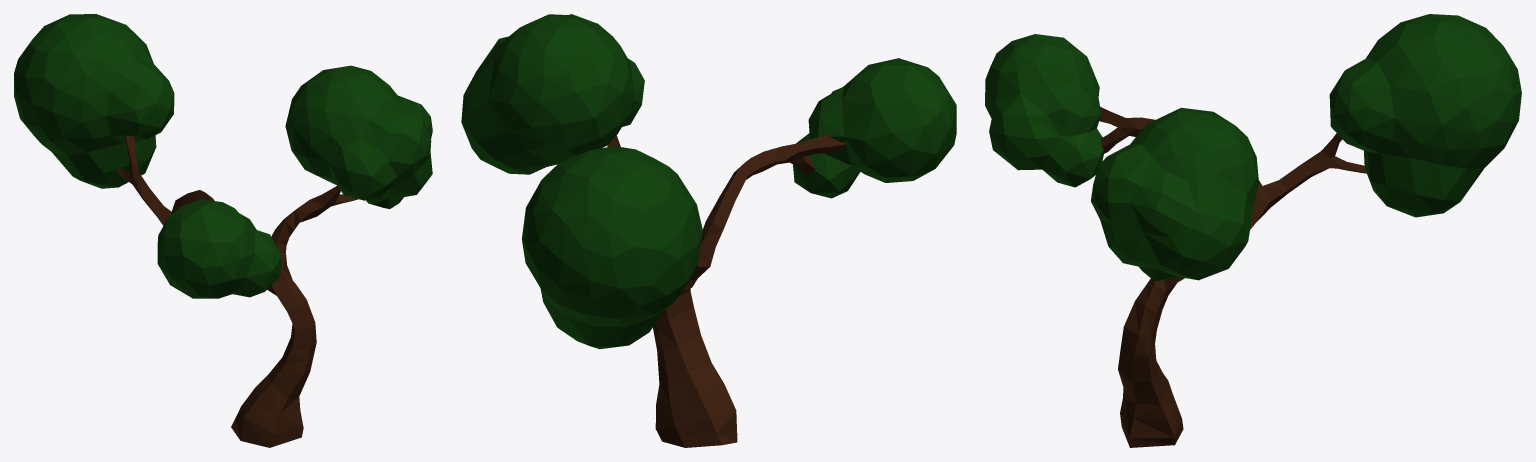
The model's file is Tree3_Destr.FBX.
3 renders of one model, left to right at view 1: azimuth 30°, elevation 25°; view 2: azimuth 150°, elevation 25°; view 3: azimuth 270°, elevation 25°, orthographic. The views are drawn at different scales.
Parts seen in each view (by area): view 1: LowPoly_Tree_03_lowpoly_tree_01_Plane_013_Part_4, LowPoly_Tree_03_lowpoly_tree_01_Plane_013_Part_13, LowPoly_Tree_03_lowpoly_tree_01_Plane_013_Part_18, LowPoly_Tree_03_lowpoly_tree_01_Plane_013_Part_1, LowPoly_Tree_03_lowpoly_tree_01_Plane_013_Part_2, LowPoly_Tree_03_lowpoly_tree_01_Plane_013_Part_17, LowPoly_Tree_03_lowpoly_tree_01_Plane_013_Part_6, LowPoly_Tree_03_lowpoly_tree_01_Plane_013_Part_16, LowPoly_Tree_03_lowpoly_tree_01_Plane_013_Part_20_Part_2, LowPoly_Tree_03_lowpoly_tree_01_Plane_013_Part_20_Part_5, LowPoly_Tree_03_lowpoly_tree_01_Plane_013_Part_20_Part_1, LowPoly_Tree_03_lowpoly_tree_01_Plane_013_Part_10 (+5 smaller); view 2: LowPoly_Tree_03_lowpoly_tree_01_Plane_013_Part_12, LowPoly_Tree_03_lowpoly_tree_01_Plane_013_Part_5, LowPoly_Tree_03_lowpoly_tree_01_Plane_013_Part_8, LowPoly_Tree_03_lowpoly_tree_01_Plane_013_Part_4, LowPoly_Tree_03_lowpoly_tree_01_Plane_013_Part_9, LowPoly_Tree_03_lowpoly_tree_01_Plane_013_Part_14, LowPoly_Tree_03_lowpoly_tree_01_Plane_013_Part_6, LowPoly_Tree_03_lowpoly_tree_01_Plane_013_Part_16, LowPoly_Tree_03_lowpoly_tree_01_Plane_013_Part_7, LowPoly_Tree_03_lowpoly_tree_01_Plane_013_Part_20_Part_2, LowPoly_Tree_03_lowpoly_tree_01_Plane_013_Part_19, LowPoly_Tree_03_lowpoly_tree_01_Plane_013_Part_13 (+11 smaller); view 3: LowPoly_Tree_03_lowpoly_tree_01_Plane_013_Part_1, LowPoly_Tree_03_lowpoly_tree_01_Plane_013_Part_5, LowPoly_Tree_03_lowpoly_tree_01_Plane_013_Part_10, LowPoly_Tree_03_lowpoly_tree_01_Plane_013_Part_9, LowPoly_Tree_03_lowpoly_tree_01_Plane_013_Part_15, LowPoly_Tree_03_lowpoly_tree_01_Plane_013_Part_17, LowPoly_Tree_03_lowpoly_tree_01_Plane_013_Part_13, LowPoly_Tree_03_lowpoly_tree_01_Plane_013_Part_18, LowPoly_Tree_03_lowpoly_tree_01_Plane_013_Part_12, LowPoly_Tree_03_lowpoly_tree_01_Plane_013_Part_20_Part_4, LowPoly_Tree_03_lowpoly_tree_01_Plane_013_Part_20_Part_1, LowPoly_Tree_03_lowpoly_tree_01_Plane_013_Part_2 (+4 smaller).
Boxes of the visible parts, <box> form: LowPoly_Tree_03_lowpoly_tree_01_Plane_013_Part_4: <box>289,65,384,200</box>; LowPoly_Tree_03_lowpoly_tree_01_Plane_013_Part_13: <box>35,17,154,111</box>; LowPoly_Tree_03_lowpoly_tree_01_Plane_013_Part_18: <box>55,65,180,209</box>; LowPoly_Tree_03_lowpoly_tree_01_Plane_013_Part_1: <box>366,72,432,208</box>; LowPoly_Tree_03_lowpoly_tree_01_Plane_013_Part_2: <box>194,206,261,298</box>; LowPoly_Tree_03_lowpoly_tree_01_Plane_013_Part_17: <box>70,135,176,225</box>; LowPoly_Tree_03_lowpoly_tree_01_Plane_013_Part_6: <box>160,199,231,286</box>; LowPoly_Tree_03_lowpoly_tree_01_Plane_013_Part_16: <box>14,67,83,170</box>; LowPoly_Tree_03_lowpoly_tree_01_Plane_013_Part_20_Part_2: <box>250,344,313,414</box>; LowPoly_Tree_03_lowpoly_tree_01_Plane_013_Part_20_Part_5: <box>235,395,294,447</box>; LowPoly_Tree_03_lowpoly_tree_01_Plane_013_Part_20_Part_1: <box>267,286,316,360</box>; LowPoly_Tree_03_lowpoly_tree_01_Plane_013_Part_10: <box>232,213,281,297</box>; LowPoly_Tree_03_lowpoly_tree_01_Plane_013_Part_12: <box>473,31,615,131</box>; LowPoly_Tree_03_lowpoly_tree_01_Plane_013_Part_5: <box>522,151,605,281</box>; LowPoly_Tree_03_lowpoly_tree_01_Plane_013_Part_8: <box>537,240,638,329</box>; LowPoly_Tree_03_lowpoly_tree_01_Plane_013_Part_4: <box>517,14,644,141</box>; LowPoly_Tree_03_lowpoly_tree_01_Plane_013_Part_9: <box>709,73,862,222</box>; LowPoly_Tree_03_lowpoly_tree_01_Plane_013_Part_14: <box>595,161,699,259</box>; LowPoly_Tree_03_lowpoly_tree_01_Plane_013_Part_6: <box>859,60,956,137</box>; LowPoly_Tree_03_lowpoly_tree_01_Plane_013_Part_16: <box>631,227,702,327</box>; LowPoly_Tree_03_lowpoly_tree_01_Plane_013_Part_7: <box>819,89,903,198</box>; LowPoly_Tree_03_lowpoly_tree_01_Plane_013_Part_20_Part_2: <box>653,319,728,403</box>; LowPoly_Tree_03_lowpoly_tree_01_Plane_013_Part_19: <box>874,105,955,181</box>; LowPoly_Tree_03_lowpoly_tree_01_Plane_013_Part_13: <box>588,146,702,228</box>; LowPoly_Tree_03_lowpoly_tree_01_Plane_013_Part_1: <box>1091,136,1245,281</box>; LowPoly_Tree_03_lowpoly_tree_01_Plane_013_Part_5: <box>1383,26,1521,154</box>; LowPoly_Tree_03_lowpoly_tree_01_Plane_013_Part_10: <box>989,68,1078,187</box>; LowPoly_Tree_03_lowpoly_tree_01_Plane_013_Part_9: <box>1044,59,1155,184</box>; LowPoly_Tree_03_lowpoly_tree_01_Plane_013_Part_15: <box>1375,122,1491,210</box>; LowPoly_Tree_03_lowpoly_tree_01_Plane_013_Part_17: <box>1250,140,1419,229</box>; LowPoly_Tree_03_lowpoly_tree_01_Plane_013_Part_13: <box>1347,14,1459,89</box>; LowPoly_Tree_03_lowpoly_tree_01_Plane_013_Part_18: <box>1324,69,1386,147</box>; LowPoly_Tree_03_lowpoly_tree_01_Plane_013_Part_12: <box>1205,120,1258,234</box>; LowPoly_Tree_03_lowpoly_tree_01_Plane_013_Part_20_Part_4: <box>1125,394,1181,447</box>; LowPoly_Tree_03_lowpoly_tree_01_Plane_013_Part_20_Part_1: <box>1119,285,1172,369</box>; LowPoly_Tree_03_lowpoly_tree_01_Plane_013_Part_2: <box>985,42,1042,118</box>.
Bounding box in the file's own units: 8.25 × 8.26 × 10.49.
